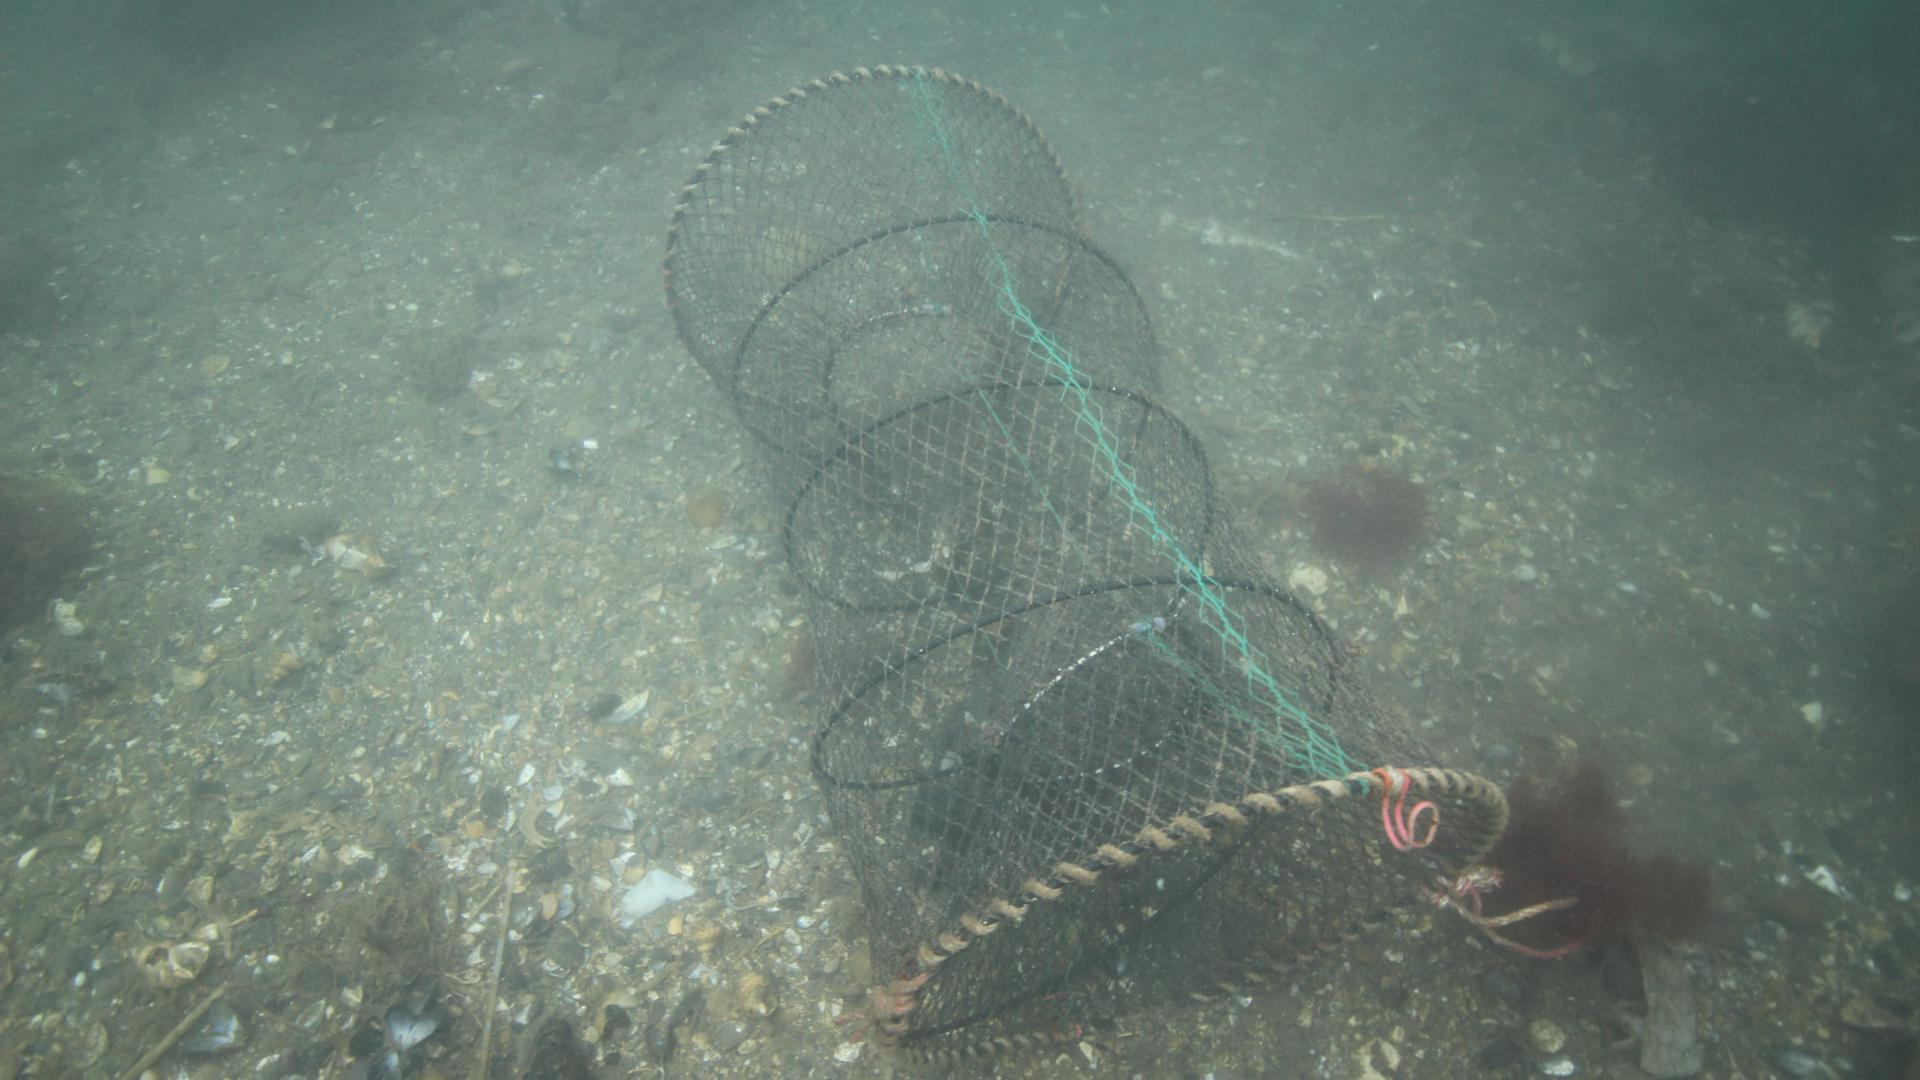spring fish trap: (654, 58, 1511, 1069)
